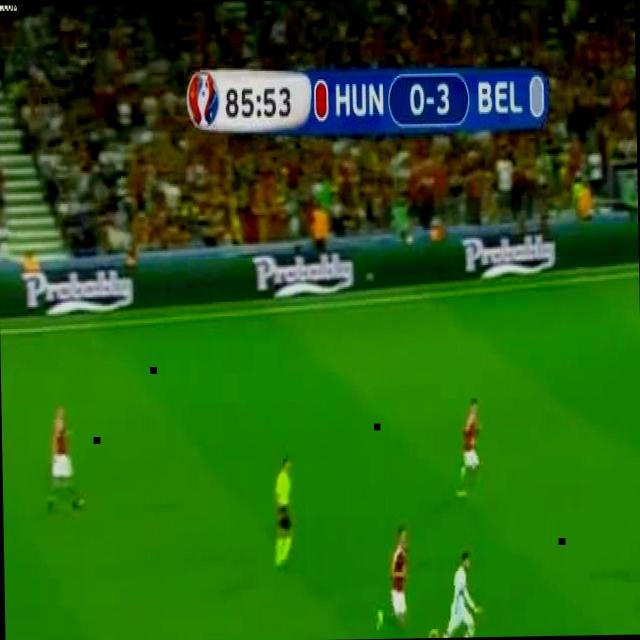player-white: (375, 525, 411, 639), (45, 406, 83, 512), (432, 551, 478, 638), (270, 454, 296, 568), (454, 398, 482, 499), (397, 630, 439, 638)
